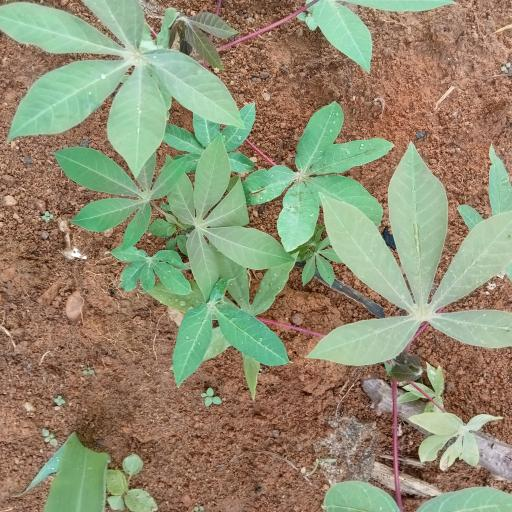Cassava_Healthy: (320, 142, 512, 368), (1, 1, 249, 157), (169, 136, 294, 296)
